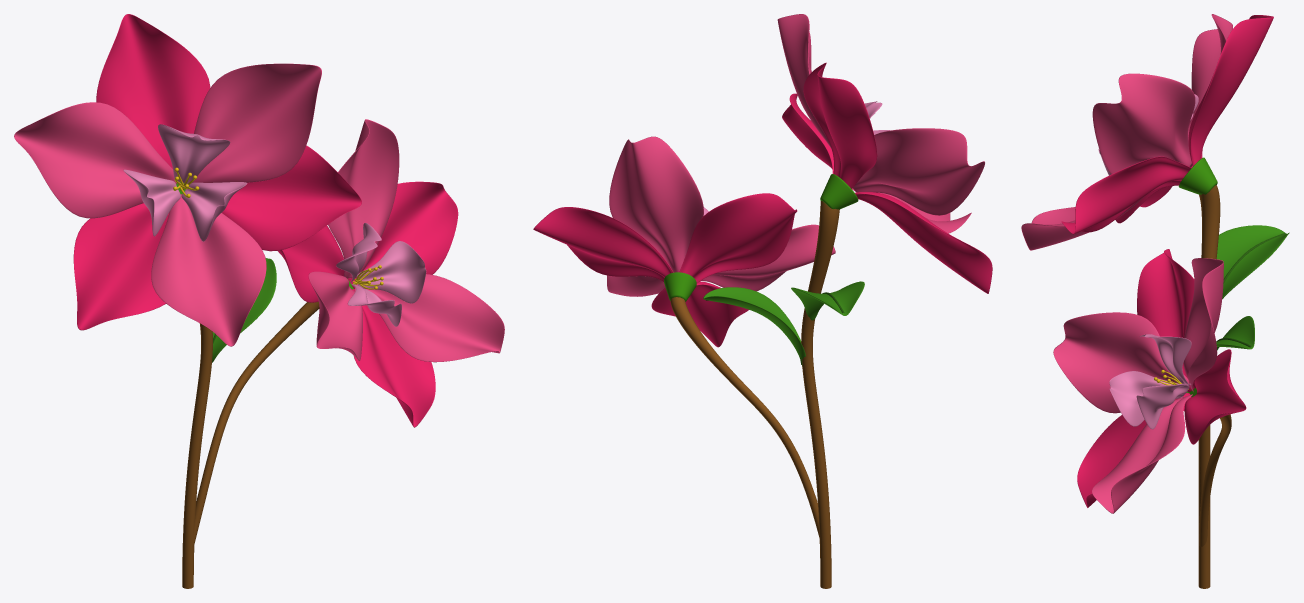
The model's file is Magnolia.glb.
3 renders of one model, left to right at view 1: azimuth 30°, elevation 25°; view 2: azimuth 150°, elevation 25°; view 3: azimuth 270°, elevation 25°, orthographic. The views are drawn at different scales.
Parts seen in each view (by area): view 1: Plane.214, Plane.212, Plane.213, Plane.217, Plane.216, Plane.215, Plane.220, Plane.219, Plane.223, Plane.221, Plane.218, NurbsPath.186 (+9 smaller); view 2: Plane.219, Plane.212, Plane.222, Plane.223, Plane.217, NurbsPath.186, Plane.216, NurbsPath.187, Plane.218, Plane.221, Plane.214, Plane.225 (+6 smaller); view 3: Plane.214, Plane.218, Plane.215, Plane.217, Plane.220, Plane.222, Plane.219, Plane.223, Plane.224, NurbsPath.186, Plane.221, Plane.212 (+8 smaller).
Part boxes in pixels (bbox=[...]): Plane.214: bbox=[193, 63, 321, 182]; Plane.212: bbox=[14, 102, 176, 218]; Plane.213: bbox=[151, 194, 266, 346]; Plane.217: bbox=[96, 14, 210, 168]; Plane.216: bbox=[73, 203, 169, 330]; Plane.215: bbox=[222, 145, 361, 251]; Plane.220: bbox=[354, 274, 504, 362]; Plane.219: bbox=[328, 119, 399, 278]; Plane.223: bbox=[347, 181, 458, 288]; Plane.221: bbox=[352, 289, 435, 427]; Plane.218: bbox=[308, 271, 362, 360]; NurbsPath.186: bbox=[182, 323, 212, 588]; Plane.219: bbox=[609, 136, 703, 272]; Plane.212: bbox=[852, 128, 984, 215]; Plane.222: bbox=[679, 193, 797, 283]; Plane.223: bbox=[533, 207, 673, 281]; Plane.217: bbox=[803, 62, 877, 188]; NurbsPath.186: bbox=[801, 201, 839, 588]; Plane.216: bbox=[855, 192, 992, 293]; NurbsPath.187: bbox=[670, 297, 819, 537]; Plane.218: bbox=[701, 224, 835, 291]; Plane.221: bbox=[651, 281, 748, 347]; Plane.214: bbox=[777, 14, 831, 148]; Plane.225: bbox=[703, 287, 805, 366]; Plane.214: bbox=[1092, 73, 1195, 174]; Plane.218: bbox=[1053, 312, 1188, 413]; Plane.215: bbox=[1061, 156, 1191, 234]; Plane.217: bbox=[1188, 15, 1273, 165]; Plane.220: bbox=[1092, 394, 1192, 513]; Plane.222: bbox=[1137, 249, 1195, 392]; Plane.219: bbox=[1183, 258, 1223, 391]; Plane.223: bbox=[1184, 349, 1246, 444]; Plane.224: bbox=[1216, 225, 1289, 298]; NurbsPath.186: bbox=[1198, 185, 1220, 588]; Plane.221: bbox=[1077, 393, 1191, 507]; Plane.212: bbox=[1188, 14, 1232, 167].
Bounding box in the file's own units: 8.07 × 9.72 × 4.24.
